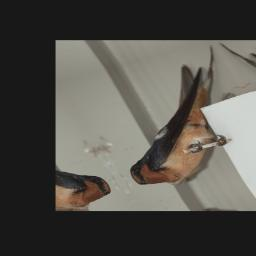Swallow: (69, 45, 256, 191)
